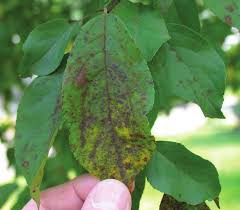unhealthy: (63, 21, 161, 178)
